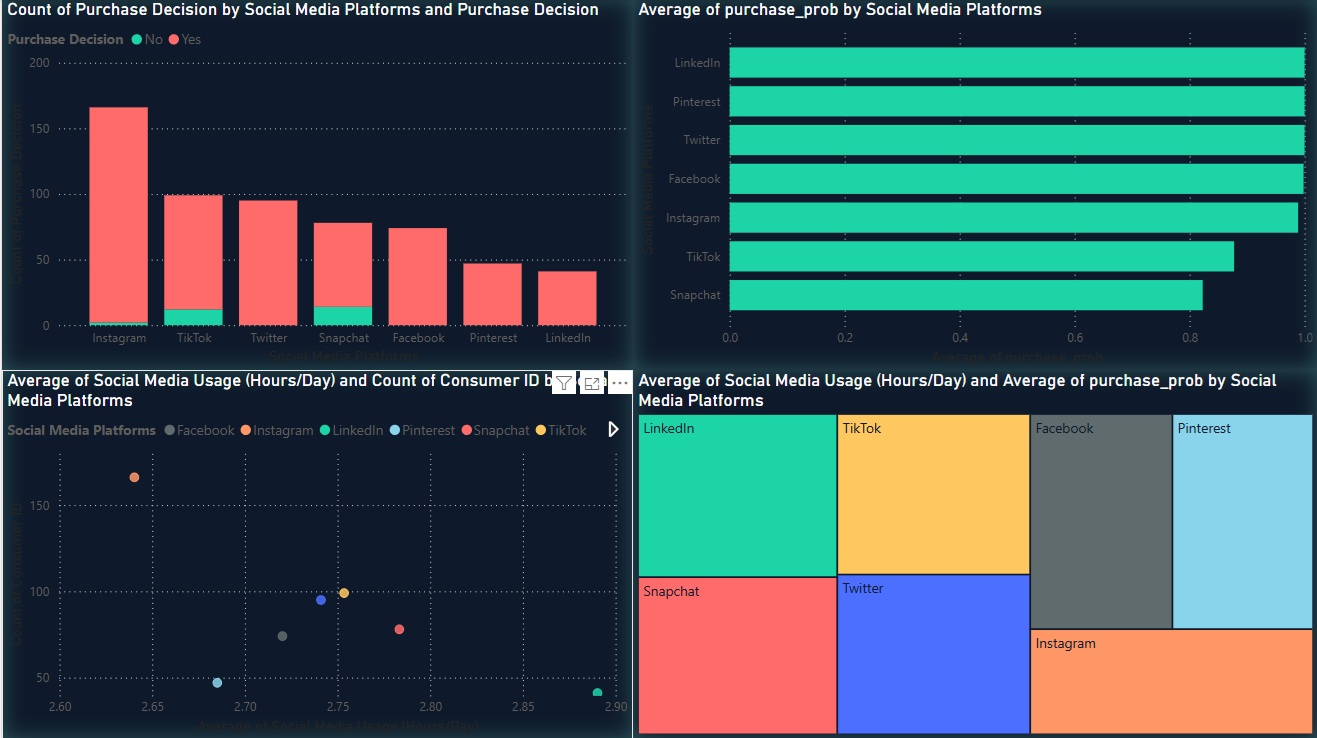

The dashboard page shown, as its layout file describes it:
{"tool":"powerbi","page":{"name":"Scroll. Stop. Spend","canvas":[1280,720],"ordinal":4},"visuals":[{"type":"columnChart","fields":{"Category":["Row_Level.Social Media Platforms"],"Series":["Row_Level.Purchase Decision"],"Y":["CountNonNull(Row_Level.Purchase Decision)"]},"box":[0,0,613.8,360.6],"z":0},{"type":"barChart","fields":{"Category":["Row_Level.Social Media Platforms"],"Y":["Avg(Row_Level.purchase_prob)"]},"box":[613.8,0,666.2,360.6],"z":1000},{"type":"scatterChart","fields":{"X":["Avg(Row_Level.Social Media Usage (Hours/Day))"],"Y":["Count(Row_Level.Consumer ID)"],"Series":["Row_Level.Social Media Platforms"]},"box":[0,360.6,613.8,359.3],"z":2000},{"type":"treemap","fields":{"Group":["Row_Level.Social Media Platforms"],"Values":["Avg(Row_Level.Social Media Usage (Hours/Day))"]},"box":[613.8,360.6,666.2,359.3],"z":3000}]}

Visuals, with their boxes in screenshot pixels (x1, y1, x2, y2), scaled from the page's 1280x720 canvas onto the 1317x738 screenshot:
columnChart - Row_Level.Social Media Platforms x Row_Level.Purchase Decision: [0, 0, 632, 370]
barChart - Row_Level.Social Media Platforms x Avg(Row_Level.purchase_prob): [632, 0, 1316, 370]
scatterChart - Avg(Row_Level.Social Media Usage (Hours/Day)) x Count(Row_Level.Consumer ID): [0, 370, 632, 737]
treemap - Row_Level.Social Media Platforms x Avg(Row_Level.Social Media Usage (Hours/Day)): [632, 370, 1316, 737]
